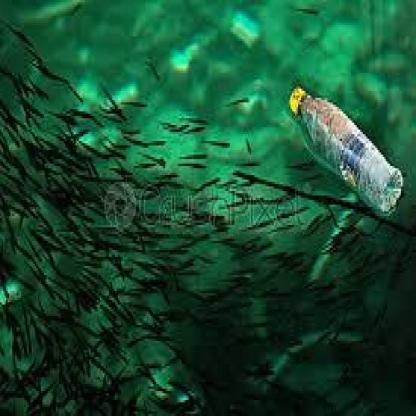pbottle: (271, 73, 405, 216)
